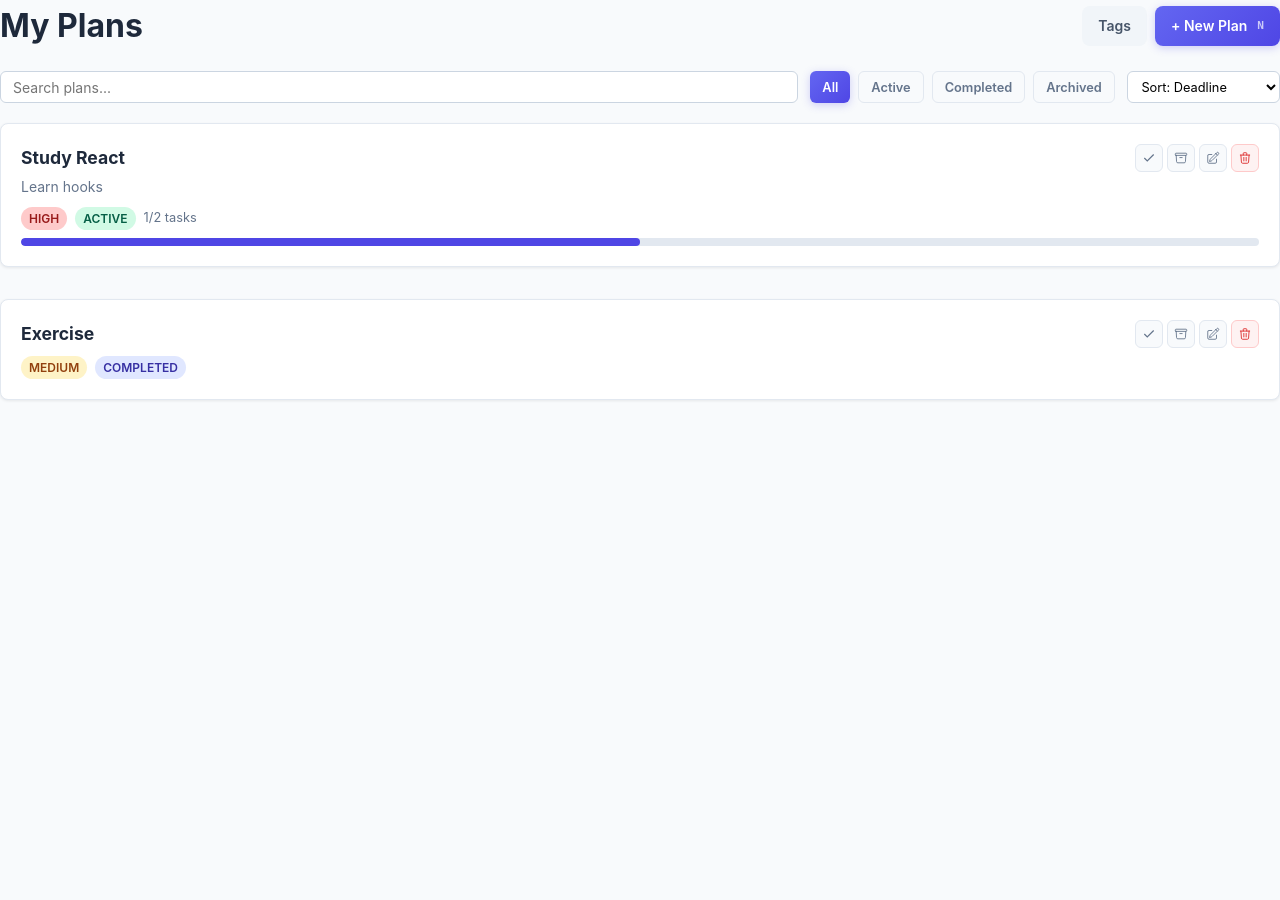
Scenario: opens new plan modal on button click
Expected: the link "Study React" is shown, [21,144,125,172]
Click the button "+ New Plan N" at coordinates (1218, 26), box [1155,6,1279,46]
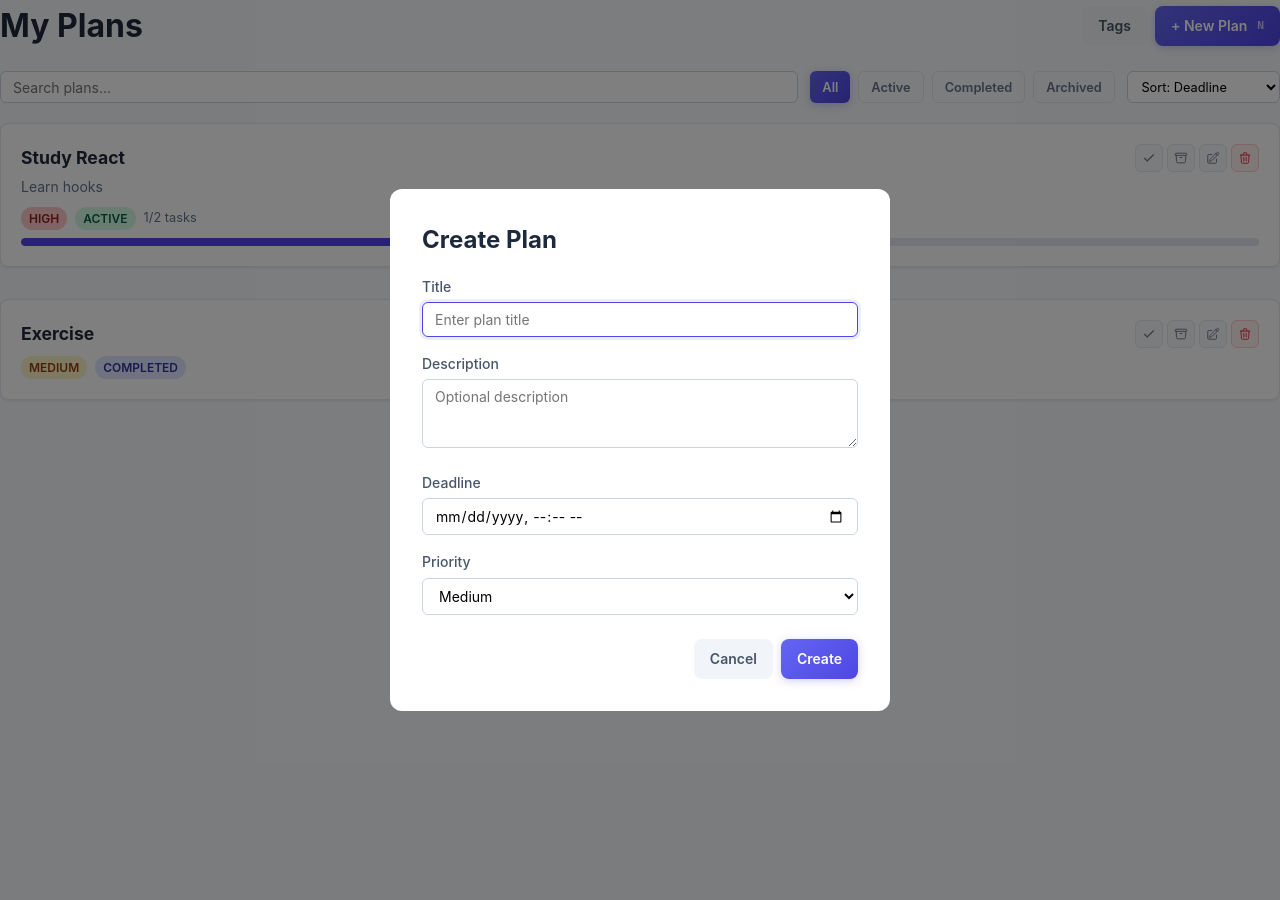
Expected: the heading "Create Plan" is shown, [422,225,557,254]
